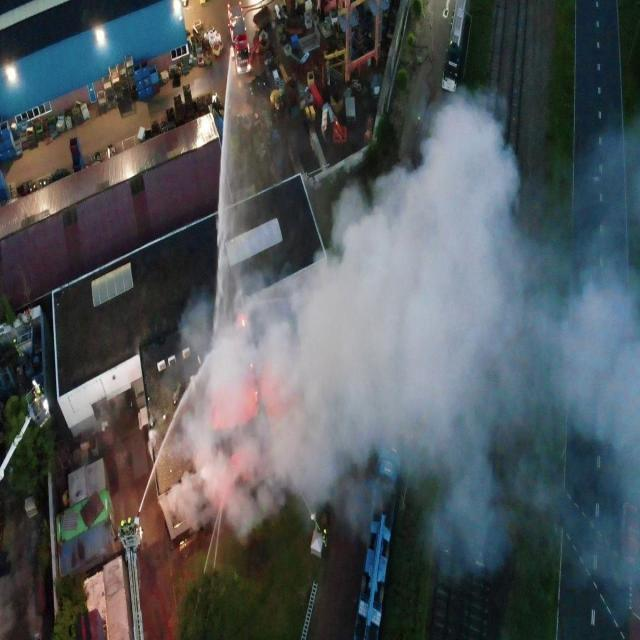Fire: (254, 391, 258, 402), (242, 319, 246, 328)
Smoke: (147, 83, 640, 612)
